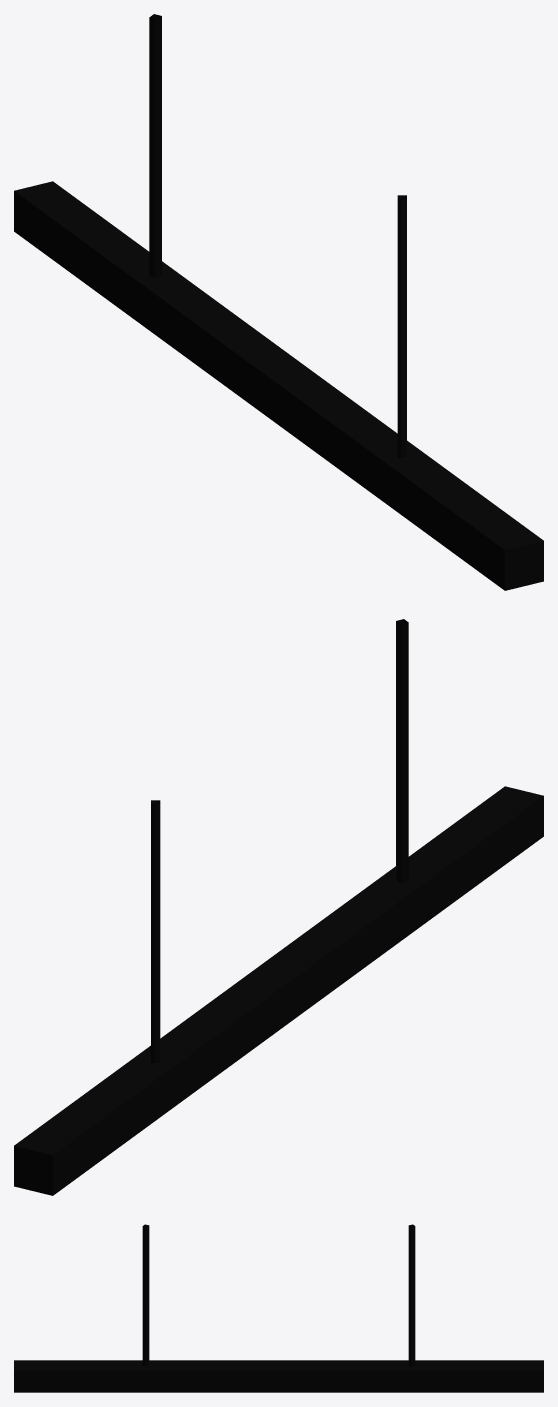
The model's file is Light Bar.fbx.
The picture shows the model from 3 angles, top to bottom: view 1: azimuth 30°, elevation 25°; view 2: azimuth 150°, elevation 25°; view 3: azimuth 270°, elevation 25°; orthographic projection. The views are drawn at different scales.
Parts seen in each view (by area): view 1: Cube.001; view 2: Cube.001; view 3: Cube.001.
Boxes of the visible parts, bbox=[...] form: Cube.001: bbox=[14, 14, 543, 590]; Cube.001: bbox=[14, 619, 543, 1195]; Cube.001: bbox=[14, 1224, 543, 1392].
Bounding box in the file's own units: 9.11 × 67.02 × 199.
Materials: 2 (1 with a texture image).
